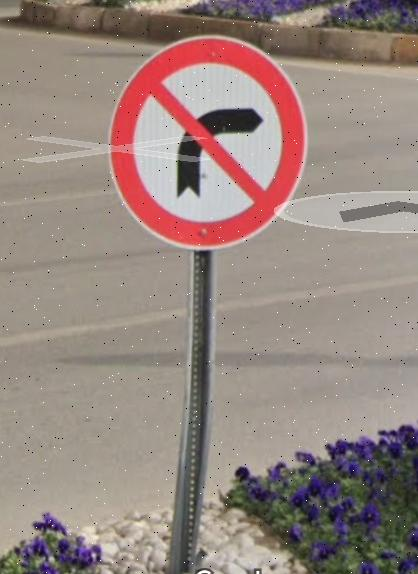rightturnsareforbidden: (107, 30, 309, 243)
